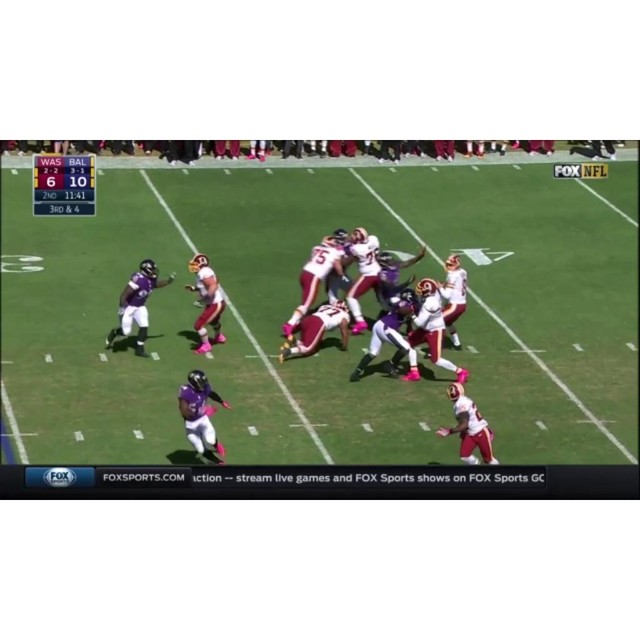american-football-player: (104, 260, 174, 357), (351, 289, 421, 383), (282, 236, 346, 333), (407, 279, 466, 383), (171, 369, 233, 464), (435, 382, 500, 466), (182, 255, 229, 357), (281, 297, 354, 362), (342, 226, 385, 333), (436, 254, 470, 355)
